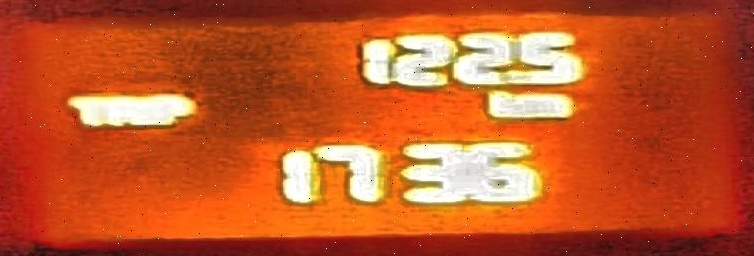1: (277, 148, 315, 205), (358, 36, 391, 85)
2: (452, 30, 511, 85), (391, 33, 450, 88)
3: (399, 141, 463, 204)
5: (517, 30, 586, 85)
6: (463, 140, 539, 203)
7: (314, 143, 382, 204)
X: (524, 90, 577, 120), (67, 92, 107, 129), (158, 92, 195, 128), (105, 92, 139, 128), (486, 89, 524, 121), (139, 93, 156, 130)
